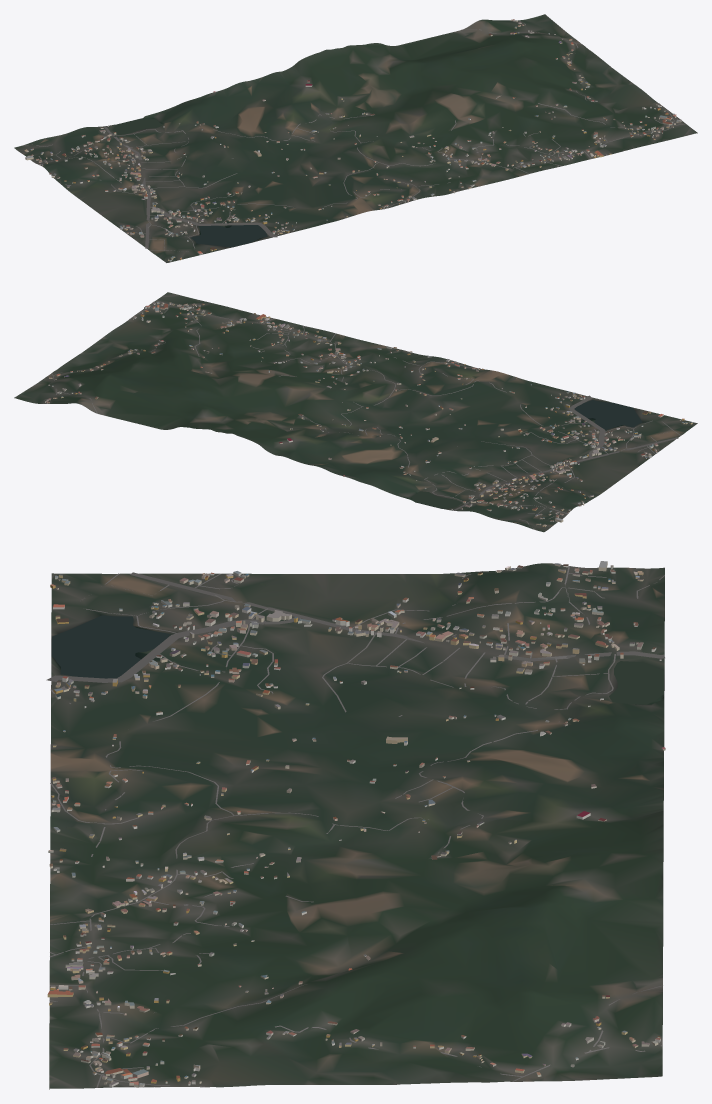
3 views of the same model, one above another, from view 1: azimuth 30°, elevation 25°; view 2: azimuth 150°, elevation 25°; view 3: azimuth 270°, elevation 25° (orthographic). The views are drawn at different scales.
Visible parts, largest first — view 1: ground, buildings, roads, water; view 2: ground, buildings, roads, water; view 3: ground, buildings, roads, water.
Boxes of the visible parts, x1,y1,x2,y2 form: ground: (14, 14, 697, 262); buildings: (24, 19, 681, 261); roads: (23, 23, 685, 251); water: (113, 118, 267, 247); ground: (14, 292, 697, 532); buildings: (45, 301, 692, 526); roads: (43, 300, 680, 529); water: (411, 400, 642, 508); ground: (49, 563, 664, 1089); buildings: (47, 561, 665, 1087); roads: (46, 566, 664, 1087); water: (51, 583, 664, 704).
Bounding box in the file's own units: 2818 × 132 × 1416.
